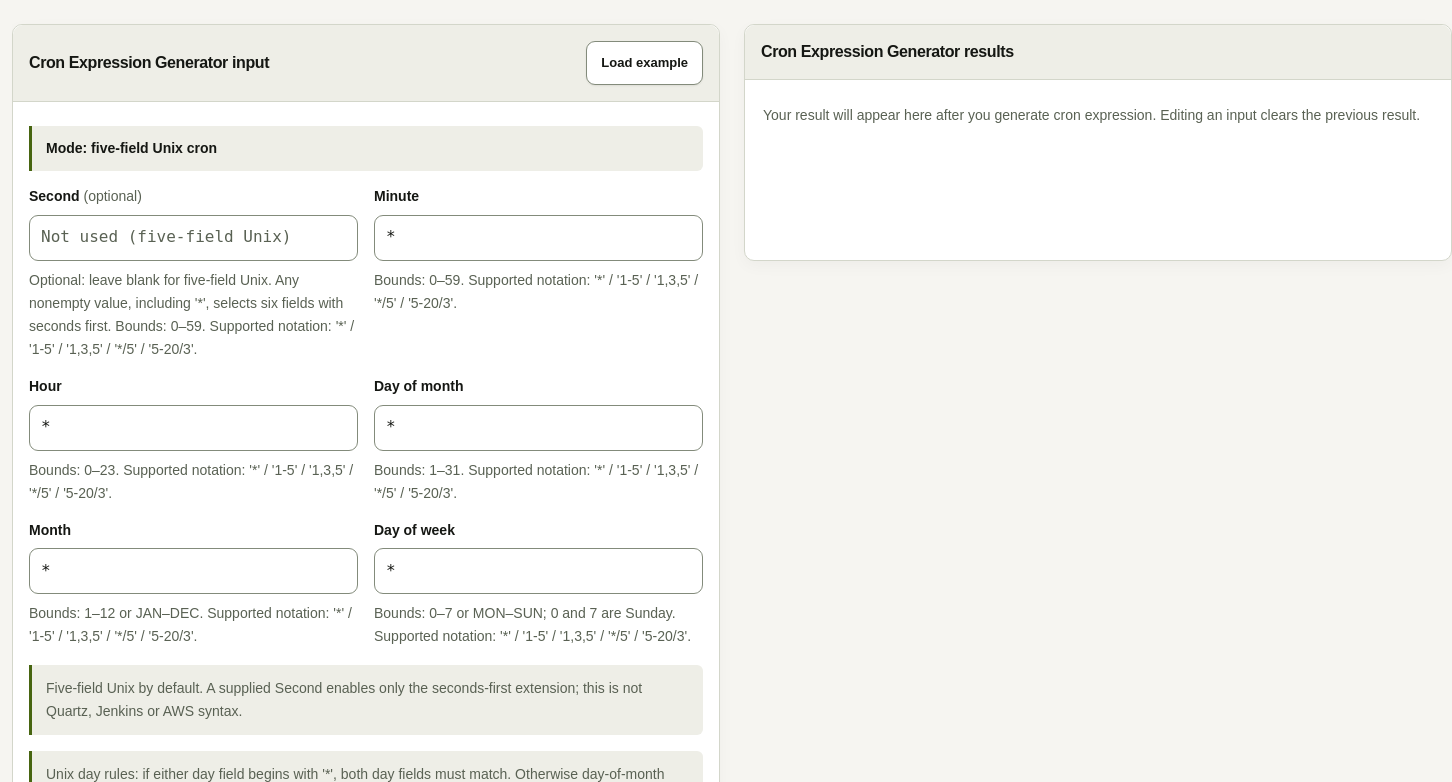
Test: Cron light DOM theme (not visual acceptance) › cron-generator exact fields, keyboard submit/Copy/Clear and no input transmission
Expected: the field labelled "Second" is shown, [29,215,358,261]
Expected: the field labelled "Minute" is shown, [374,215,703,261]
Click the button "Load example" at coordinates (645, 63), box [586,41,703,85]
(page scrolled)
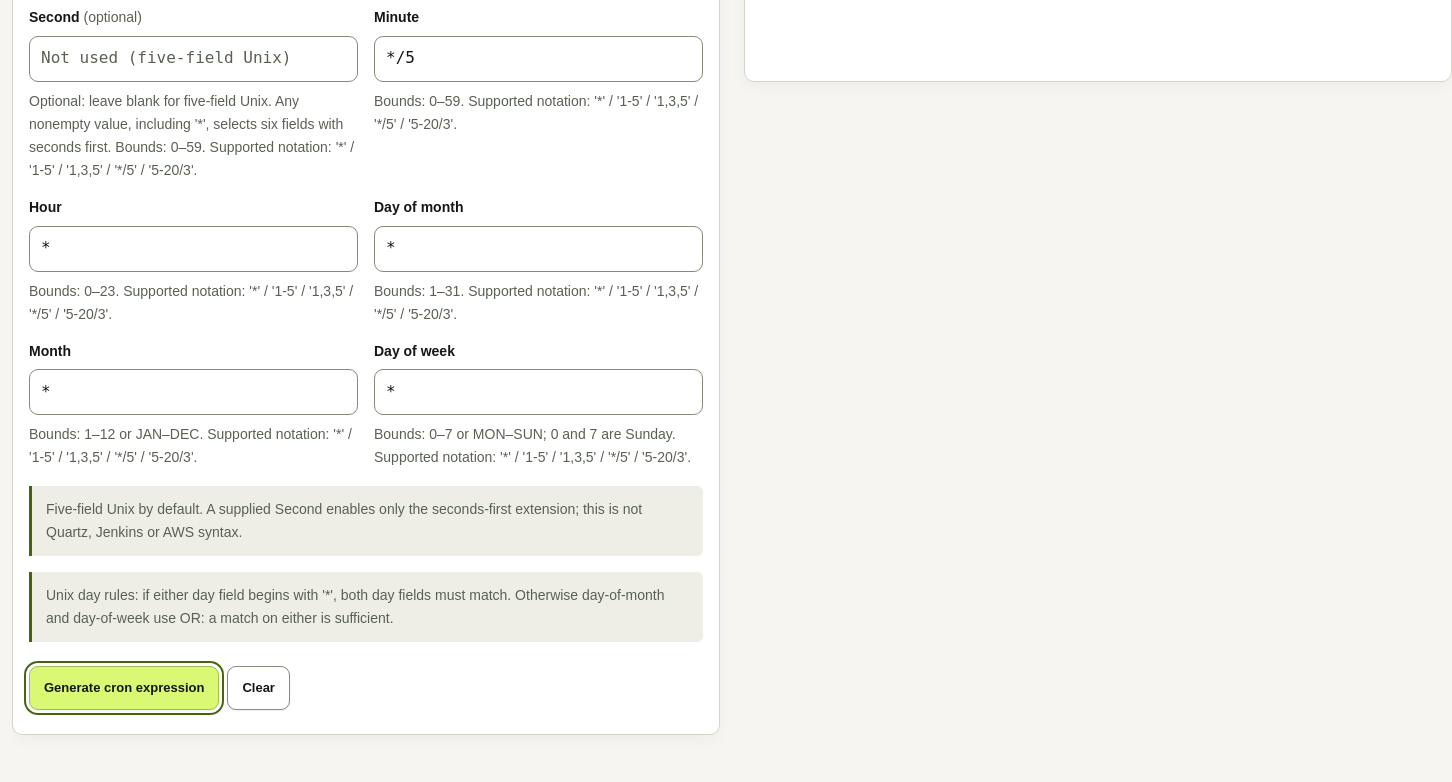
Press Enter
(page scrolled)
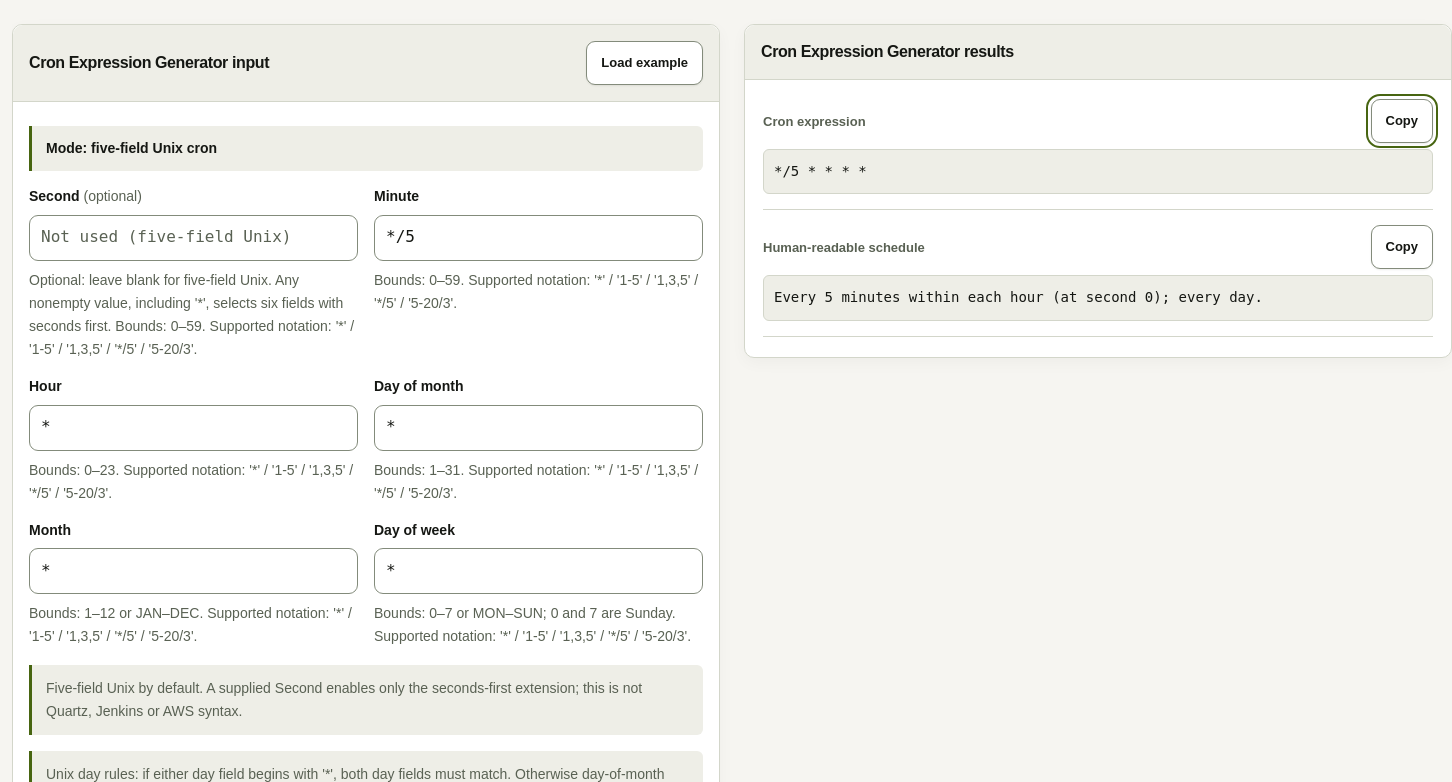
Press Enter
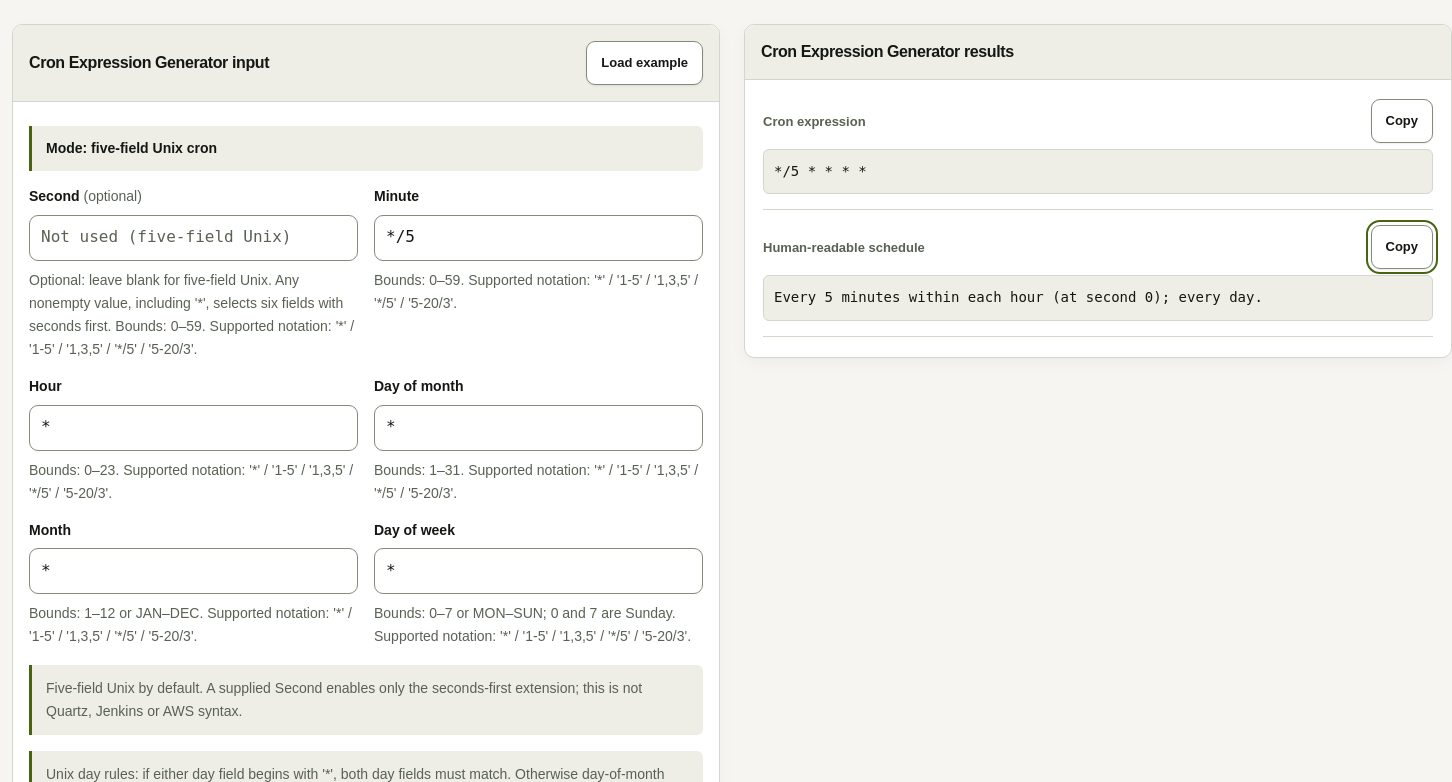
Press Enter
(page scrolled)
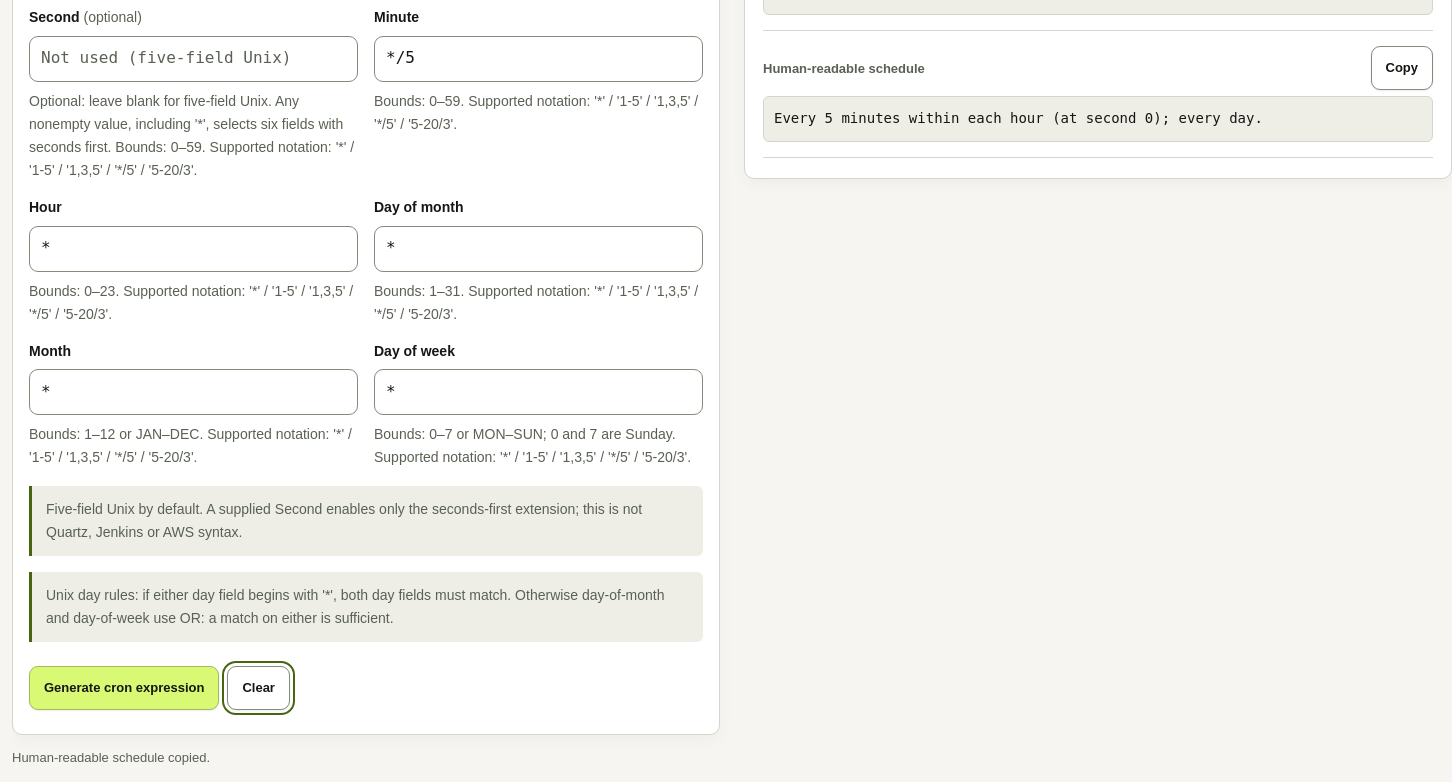
Press Enter
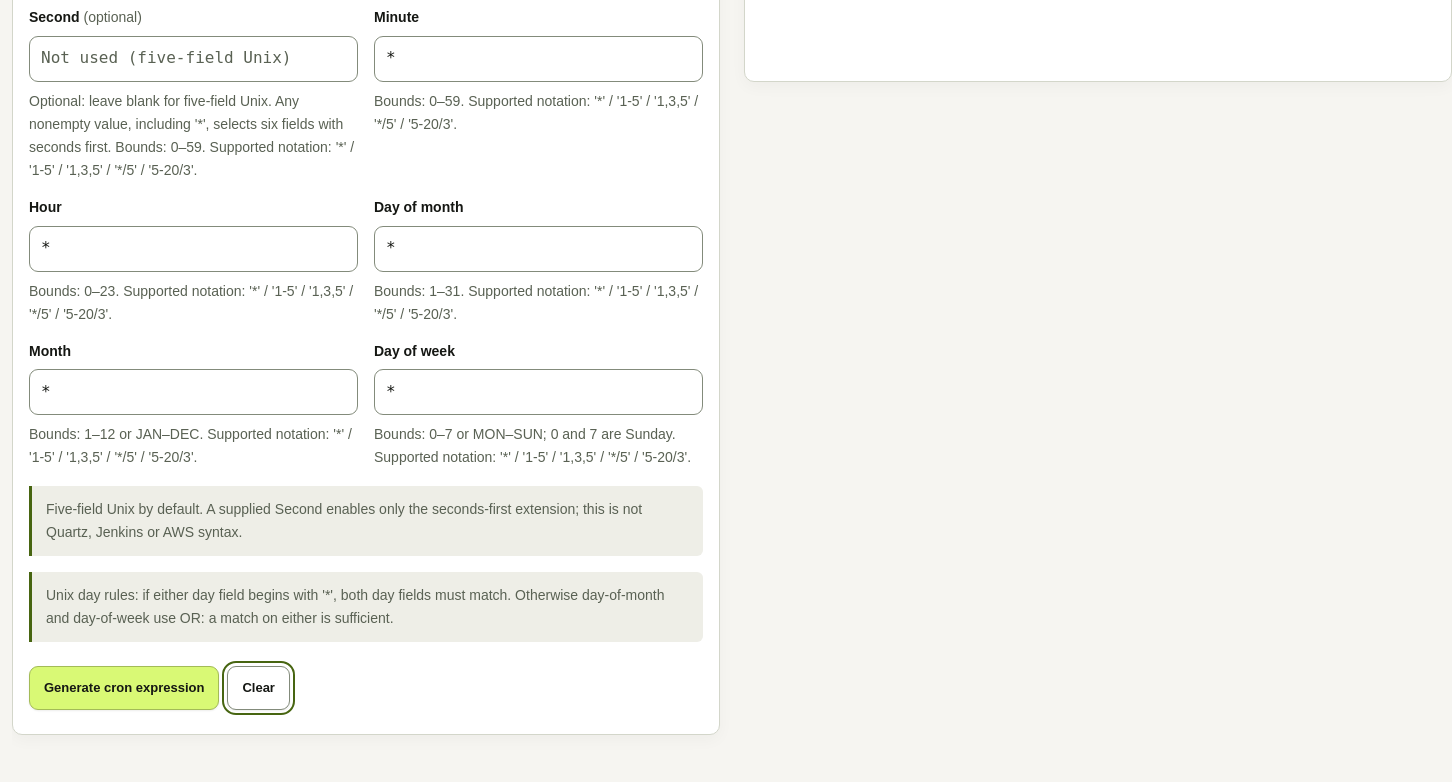
Expected: the field labelled "Second" is empty, [29,36,358,82]
Result: the field labelled "Minute" holds "*" at [374,36,703,82]
